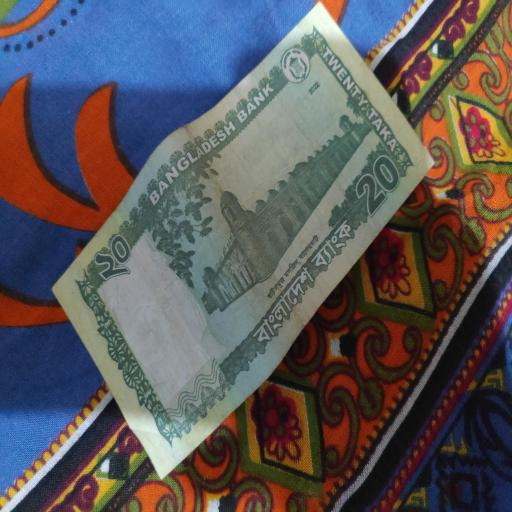20taka: (48, 6, 436, 483)
